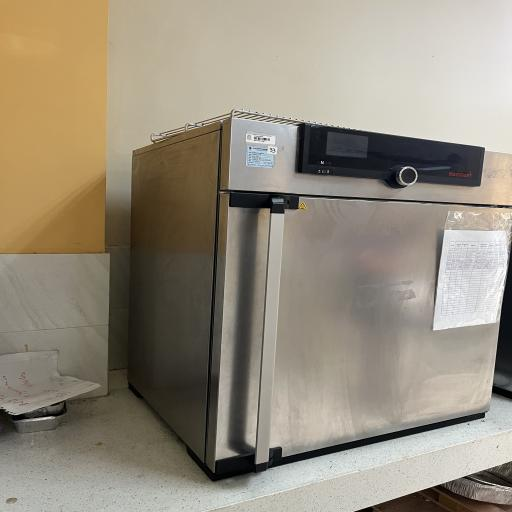Memmert_Unidad2: (112, 109, 512, 483)
